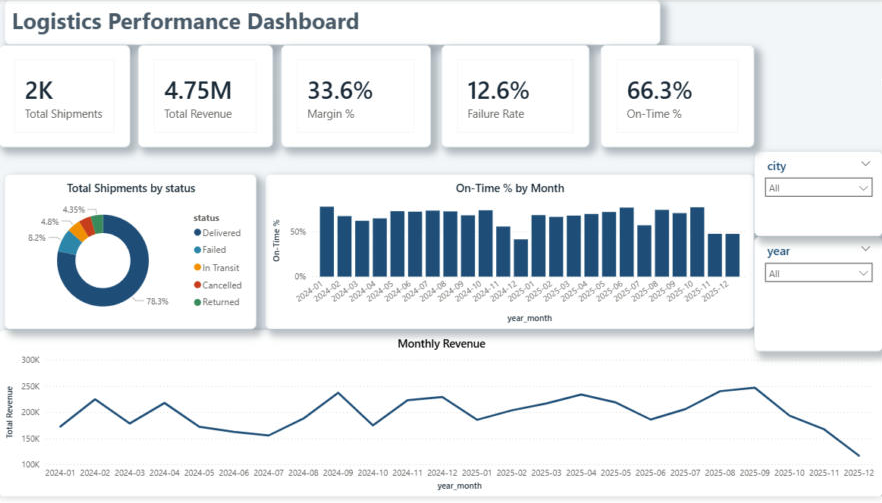

This screenshot's page, from the dashboard's own definition file:
{"tool":"powerbi","page":{"name":"Dashboard","canvas":[1280,720],"ordinal":0},"visuals":[{"type":"textbox","box":[8.2,0,949.6,65.9],"z":0},{"type":"cardVisual","fields":{"Data":["fact_shipments.Total Shipments"]},"box":[0,65.9,190.7,148.2],"z":1000},{"type":"cardVisual","fields":{"Data":["fact_shipments.Total Revenue"]},"box":[201.7,65.9,194.9,148.2],"z":2000},{"type":"cardVisual","fields":{"Data":["fact_shipments.Margin %"]},"box":[408.9,65.9,216.8,148.2],"z":3000},{"type":"cardVisual","fields":{"Data":["fact_shipments.Failure Rate"]},"box":[640.8,65.9,214.1,148.2],"z":4000},{"type":"lineChart","title":"Monthly Revenue","fields":{"Category":["dim_date.year_month"],"Y":["fact_shipments.Total Revenue"]},"box":[0,477.5,1280.3,242.9],"z":5000},{"type":"clusteredColumnChart","title":"On-Time % by Month","fields":{"Category":["dim_date.year_month"],"Y":["fact_shipments.On-Time %"]},"box":[385.6,252.5,708.1,225],"z":6000},{"type":"donutChart","fields":{"Category":["fact_shipments.status"],"Y":["fact_shipments.Total Shipments"]},"box":[8.2,252.5,365,225],"z":7000},{"type":"slicer","fields":{"Values":["dim_date.year"]},"box":[1093.7,343.1,186.6,166],"z":8000},{"type":"slicer","fields":{"Values":["dim_customer.city"]},"box":[1093.7,219.6,186.6,123.5],"z":9000},{"type":"cardVisual","fields":{"Data":["fact_shipments.On-Time %"]},"box":[871.4,65.9,222.3,148.2],"z":10000}]}

Visuals, with their boxes in screenshot pixels (x1, y1, x2, y2), scaled from the page's 1280x720 canvas onto the 882x503 screenshot:
textbox: {"x1": 6, "y1": 0, "x2": 660, "y2": 46}
cardVisual - fact_shipments.Total Shipments: {"x1": 0, "y1": 46, "x2": 131, "y2": 150}
cardVisual - fact_shipments.Total Revenue: {"x1": 139, "y1": 46, "x2": 273, "y2": 150}
cardVisual - fact_shipments.Margin %: {"x1": 282, "y1": 46, "x2": 431, "y2": 150}
cardVisual - fact_shipments.Failure Rate: {"x1": 442, "y1": 46, "x2": 589, "y2": 150}
"Monthly Revenue" lineChart: {"x1": 0, "y1": 334, "x2": 881, "y2": 502}
"On-Time % by Month" clusteredColumnChart: {"x1": 266, "y1": 176, "x2": 754, "y2": 334}
donutChart - fact_shipments.status x fact_shipments.Total Shipments: {"x1": 6, "y1": 176, "x2": 257, "y2": 334}
slicer - dim_date.year: {"x1": 754, "y1": 240, "x2": 881, "y2": 356}
slicer - dim_customer.city: {"x1": 754, "y1": 153, "x2": 881, "y2": 240}
cardVisual - fact_shipments.On-Time %: {"x1": 600, "y1": 46, "x2": 754, "y2": 150}
